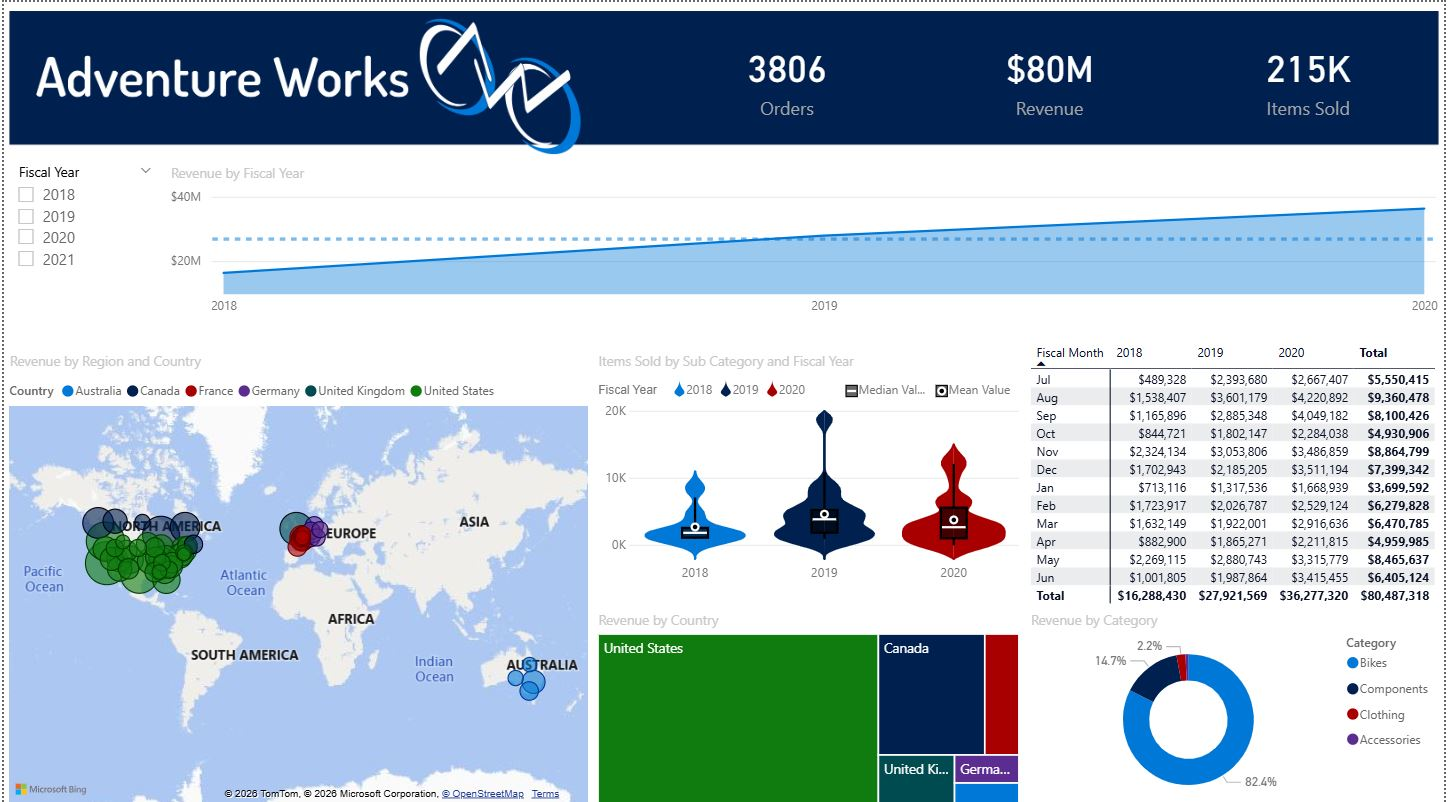

What the dashboard file says about the page in this screenshot:
{"tool":"powerbi","page":{"name":"Sales Report","canvas":[1280,720],"ordinal":0},"visuals":[{"type":"map","fields":{"Size":["Order_Items.Revenue"],"Series":["Customer.Country"],"Category":["Customer.Region"]},"box":[0,310.7,523.6,408.4],"z":0},{"type":"treemap","fields":{"Group":["Customer.Country"],"Values":["Order_Items.Revenue"]},"box":[523.6,541.1,384,178],"z":1000},{"type":"areaChart","fields":{"Y":["Order_Items.Revenue"],"Category":["Calendar.Fiscal Date.Fiscal Year","Calendar.Fiscal Date.Fiscal Month","Calendar.Fiscal Date.Day"]},"box":[143.6,143.6,1136.4,143.6],"z":2000},{"type":"pivotTable","fields":{"Values":["Order_Items.Revenue"],"Rows":["Calendar.Fiscal Month"],"Columns":["Calendar.Fiscal Year"]},"box":[907.6,297.9,372.4,243.2],"z":3000},{"type":"image","box":[0,0,1280,143.1],"z":4000},{"type":"card","fields":{"Values":["Order_Items.Orders"]},"box":[594.6,16.3,203.6,102.4],"z":5000},{"type":"card","fields":{"Values":["Order_Items.Revenue"]},"box":[827.3,16.3,203.6,102.4],"z":6000},{"type":"card","fields":{"Values":["Order_Items.Items Sold"]},"box":[1057.7,16.3,203.6,102.4],"z":7000},{"type":"violinPlot4D46EB9EB3A141D9BA2289793175D971","fields":{"sampling":["Products.Sub Category"],"measure":["Order_Items.Items Sold"],"category":["Calendar.Fiscal Year"]},"box":[523.6,310.7,384,214.1],"z":8000},{"type":"donutChart","fields":{"Y":["Order_Items.Revenue"],"Category":["Products.Category"]},"box":[907.6,541.1,372.4,178],"z":9000},{"type":"slicer","fields":{"Values":["Calendar.Fiscal Year"]},"box":[0,137.8,143.6,160],"z":10000}]}

Visuals, with their boxes in screenshot pixels (x1, y1, x2, y2), scaled from the page's 1280x720 canvas onto the 1453x802 screenshot:
map - Order_Items.Revenue x Customer.Country: (0,346,594,801)
treemap - Customer.Country x Order_Items.Revenue: (594,603,1030,801)
areaChart - Order_Items.Revenue x Calendar.Fiscal Date.Fiscal Year: (163,160,1452,320)
pivotTable - Order_Items.Revenue x Calendar.Fiscal Month: (1030,332,1452,603)
image: (0,0,1452,159)
card - Order_Items.Orders: (675,18,906,132)
card - Order_Items.Revenue: (939,18,1170,132)
card - Order_Items.Items Sold: (1201,18,1432,132)
violinPlot4D46EB9EB3A141D9BA2289793175D971 - Products.Sub Category x Order_Items.Items Sold: (594,346,1030,585)
donutChart - Order_Items.Revenue x Products.Category: (1030,603,1452,801)
slicer - Calendar.Fiscal Year: (0,153,163,332)
